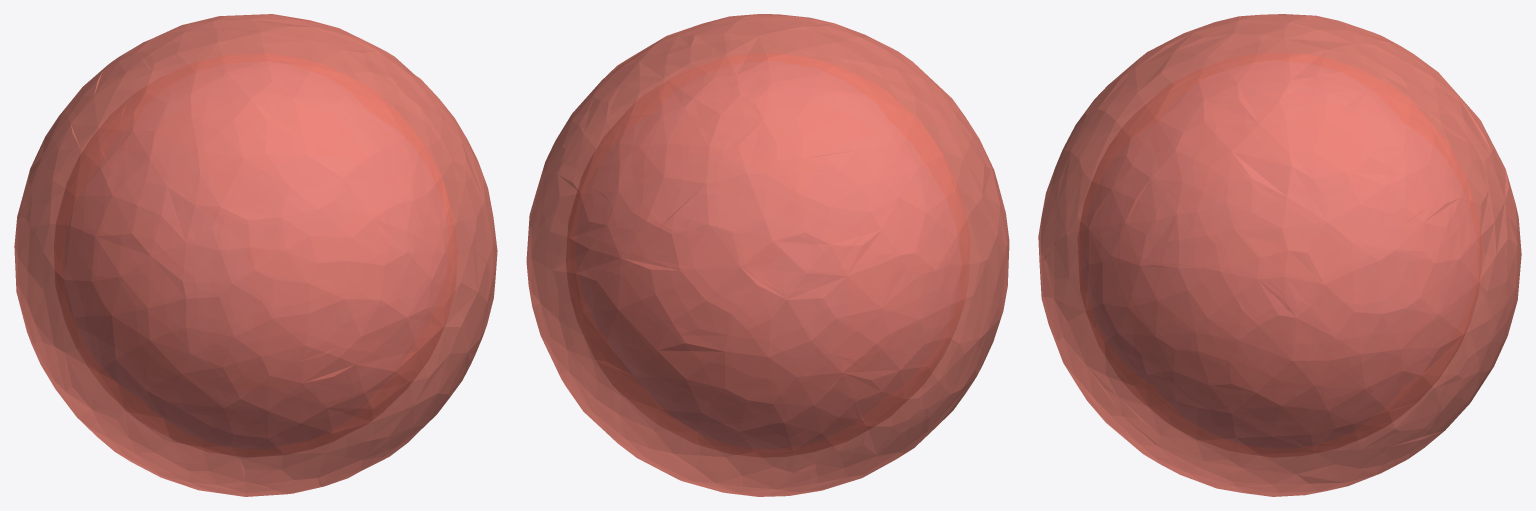
The model's file is orbital.glb.
3 views of the same model, side by side, from view 1: azimuth 30°, elevation 25°; view 2: azimuth 150°, elevation 25°; view 3: azimuth 270°, elevation 25° (orthographic).
Parts seen in each view (by area): view 1: Ba_n6_s_ml0_node, Ba_n5_s_ml0_node; view 2: Ba_n6_s_ml0_node, Ba_n5_s_ml0_node; view 3: Ba_n6_s_ml0_node, Ba_n5_s_ml0_node.
Part boxes in pixels (left/top/right/bottom): Ba_n6_s_ml0_node: left=14, top=14, right=497, bottom=496; Ba_n5_s_ml0_node: left=54, top=53, right=457, bottom=457; Ba_n6_s_ml0_node: left=526, top=14, right=1009, bottom=496; Ba_n5_s_ml0_node: left=566, top=53, right=969, bottom=457; Ba_n6_s_ml0_node: left=1038, top=14, right=1521, bottom=496; Ba_n5_s_ml0_node: left=1078, top=53, right=1481, bottom=457.
Size of the model in its own units: 3.06 by 3.06 by 3.06.
